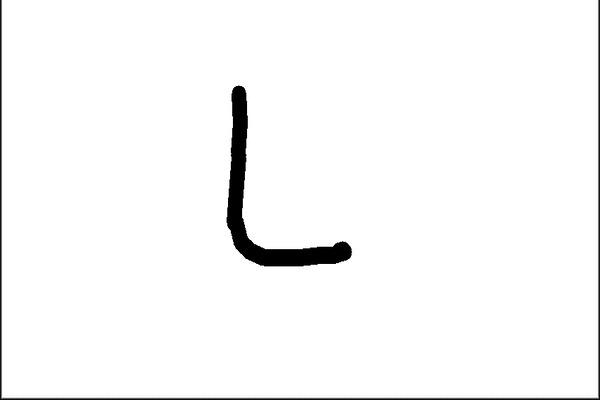L: (212, 79, 358, 270)
